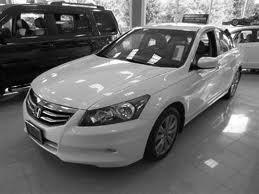car: (23, 23, 244, 173)
